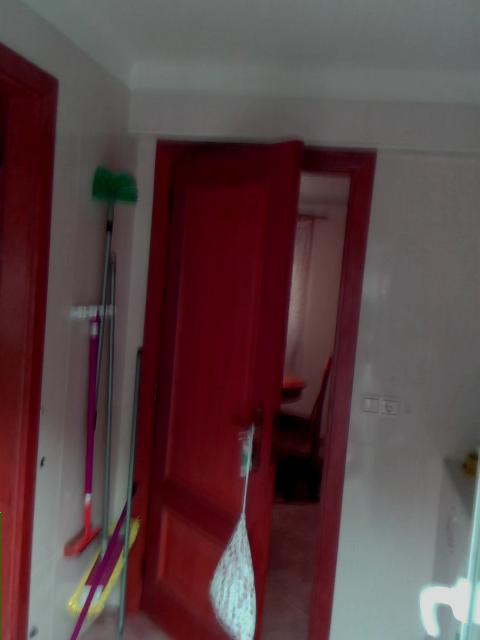semi_door: (123, 132, 379, 639)
